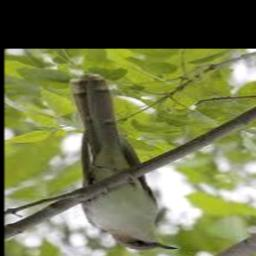Cuckoo: (69, 75, 177, 251)
